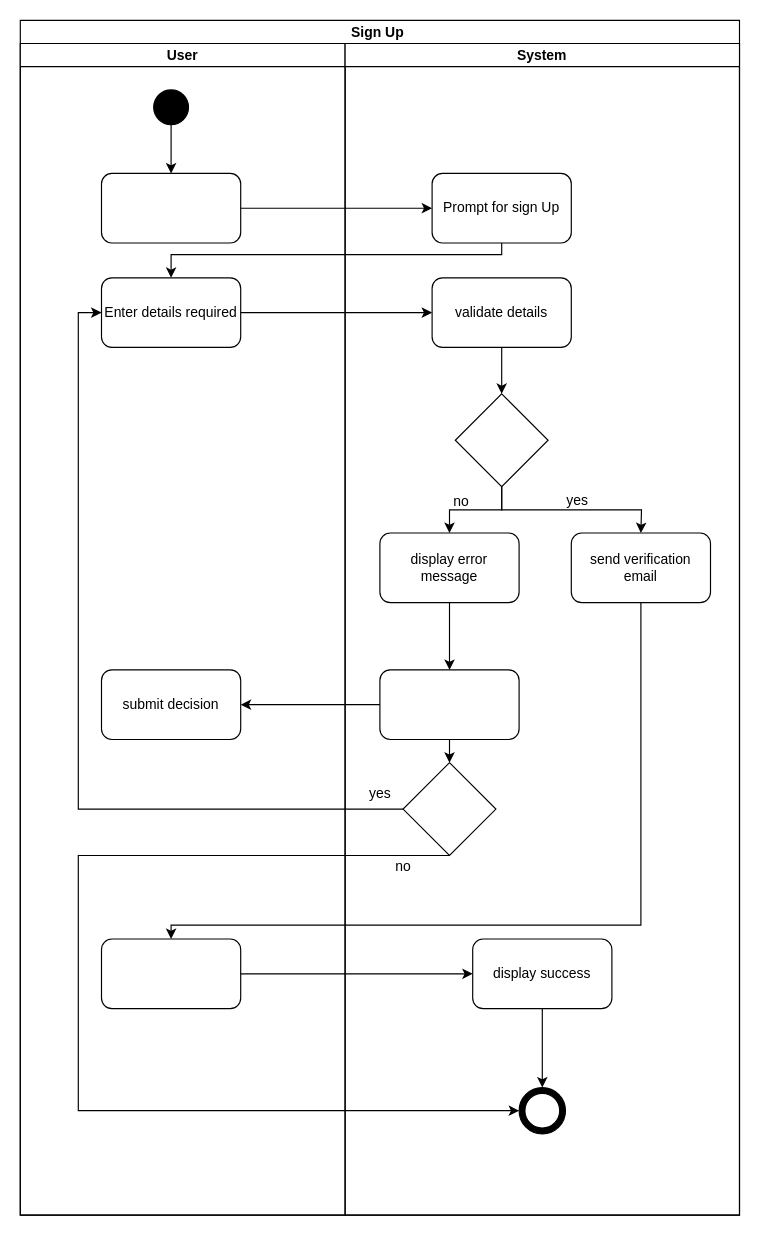
This 760x1235 diagram has some shape labels left out. The centre of each missing label's shape, as x and y in pixels:
"click for sign Up tho the system" belongs at point 170,207.
"Prompt for re-enter" belongs at point 449,704.
"re-enter?" belongs at point 449,808.
"valid?" belongs at point 501,440.
"verify email" belongs at point 170,973.
